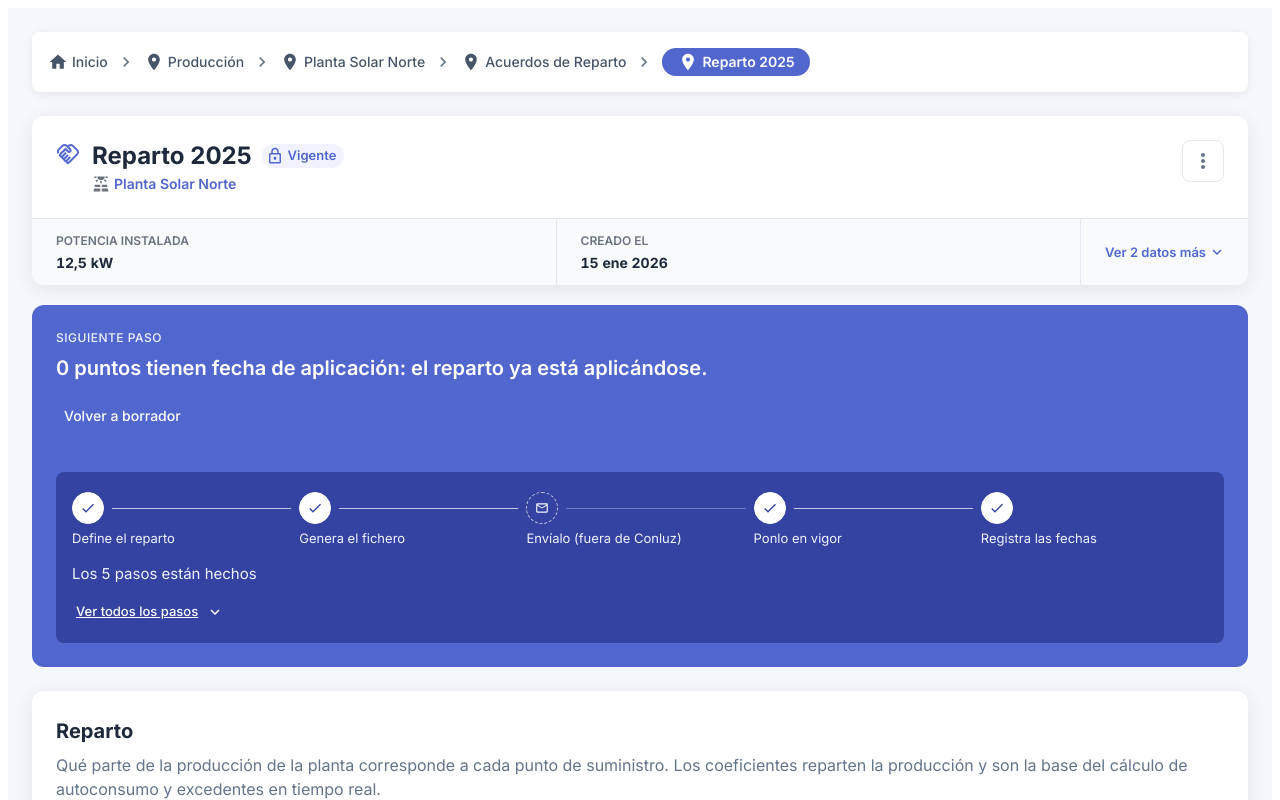
Test: SharingAgreementDetailPage › keeps editing available on a non-DRAFT agreement, but not deleting
Click the button named "Más opciones del acuerdo" at (1203,161), box [1182, 140, 1224, 182]
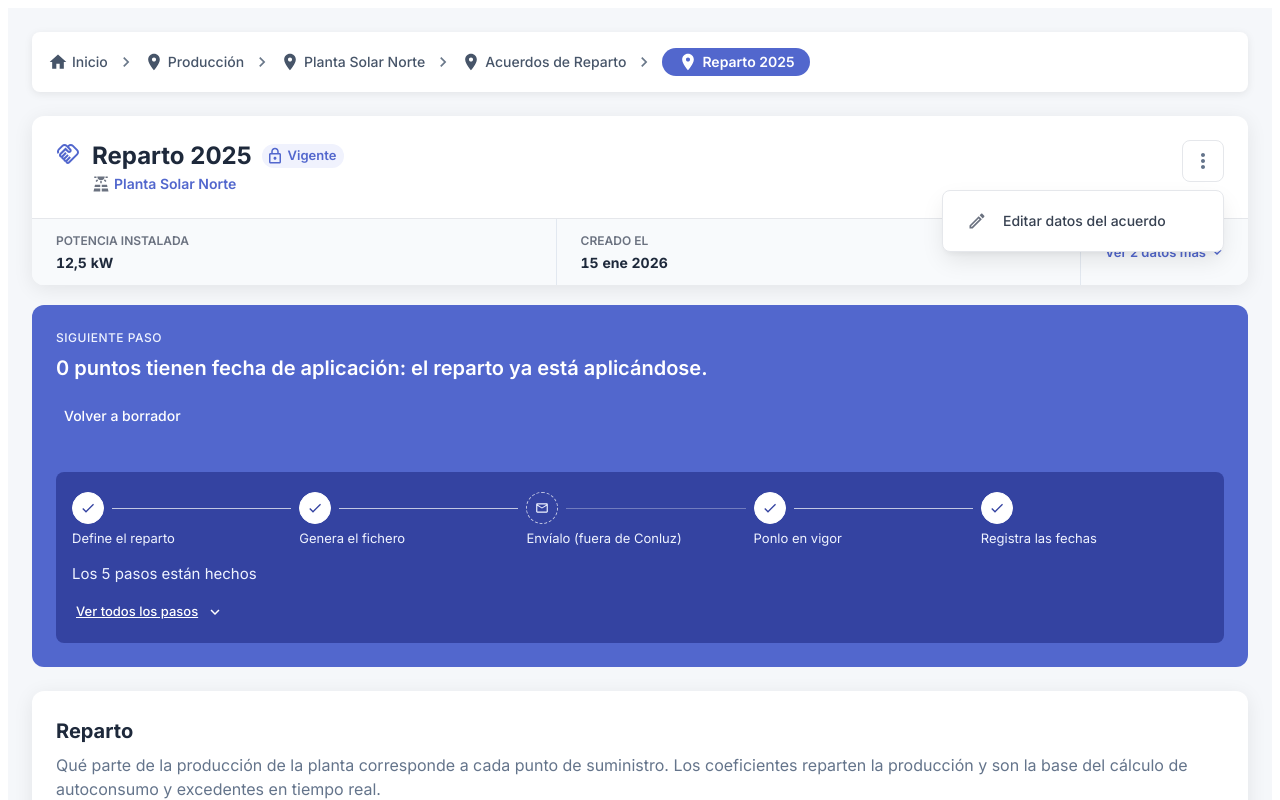
Result: the text "Editar datos del acuerdo" is shown at [1003, 211, 1166, 231]
